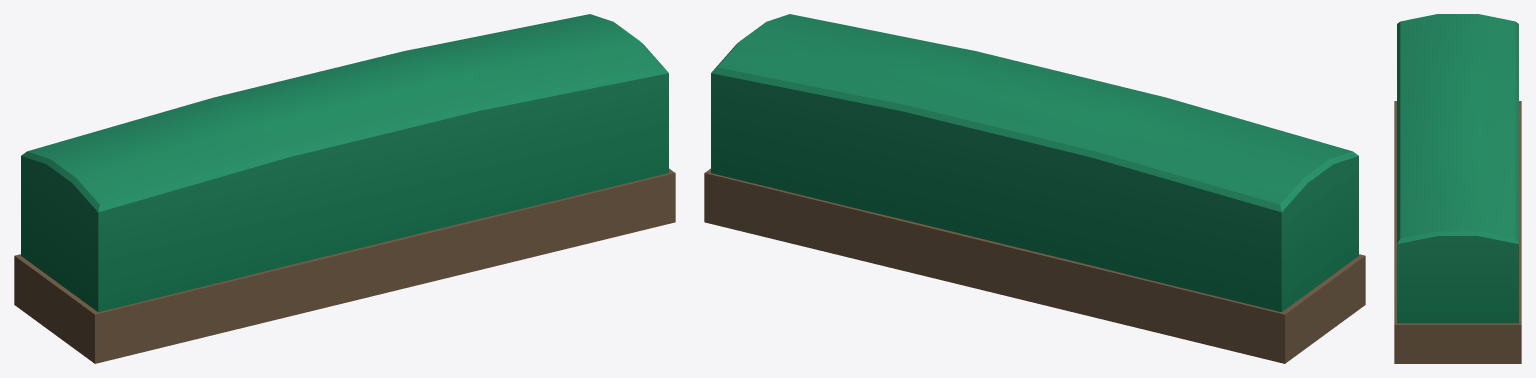
File: Bush.fbx
The picture shows the model from 3 angles, left to right: view 1: azimuth 30°, elevation 25°; view 2: azimuth 150°, elevation 25°; view 3: azimuth 270°, elevation 25°; orthographic projection. The views are drawn at different scales.
Parts seen in each view (by area): view 1: Cube; view 2: Cube; view 3: Cube.
Part boxes in pixels (x1=…): Cube: x1=14, y1=14, x2=675, y2=363; Cube: x1=704, y1=14, x2=1365, y2=363; Cube: x1=1394, y1=14, x2=1521, y2=363.
Size of the model in its own units: 423 by 120 by 102.
